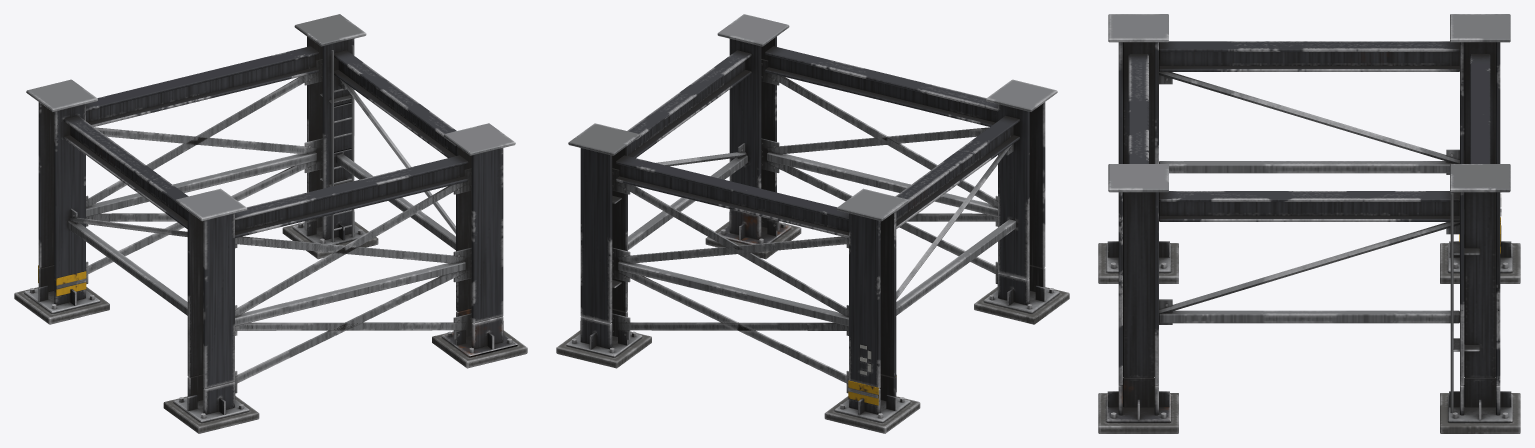
Rendered from nodexeus-set-legs-3.glb.
3 views of the same model, side by side, from view 1: azimuth 30°, elevation 25°; view 2: azimuth 150°, elevation 25°; view 3: azimuth 270°, elevation 25° (orthographic). The views are drawn at different scales.
Visible parts, largest first — view 1: set-legs-3; view 2: set-legs-3; view 3: set-legs-3.
Part boxes in pixels (bbox=[...]): set-legs-3: bbox=[14, 14, 527, 433]; set-legs-3: bbox=[556, 14, 1069, 433]; set-legs-3: bbox=[1098, 14, 1520, 433].
Size of the model in its own units: 6.63 by 4.05 by 6.43.
1 material, 1 textured.
